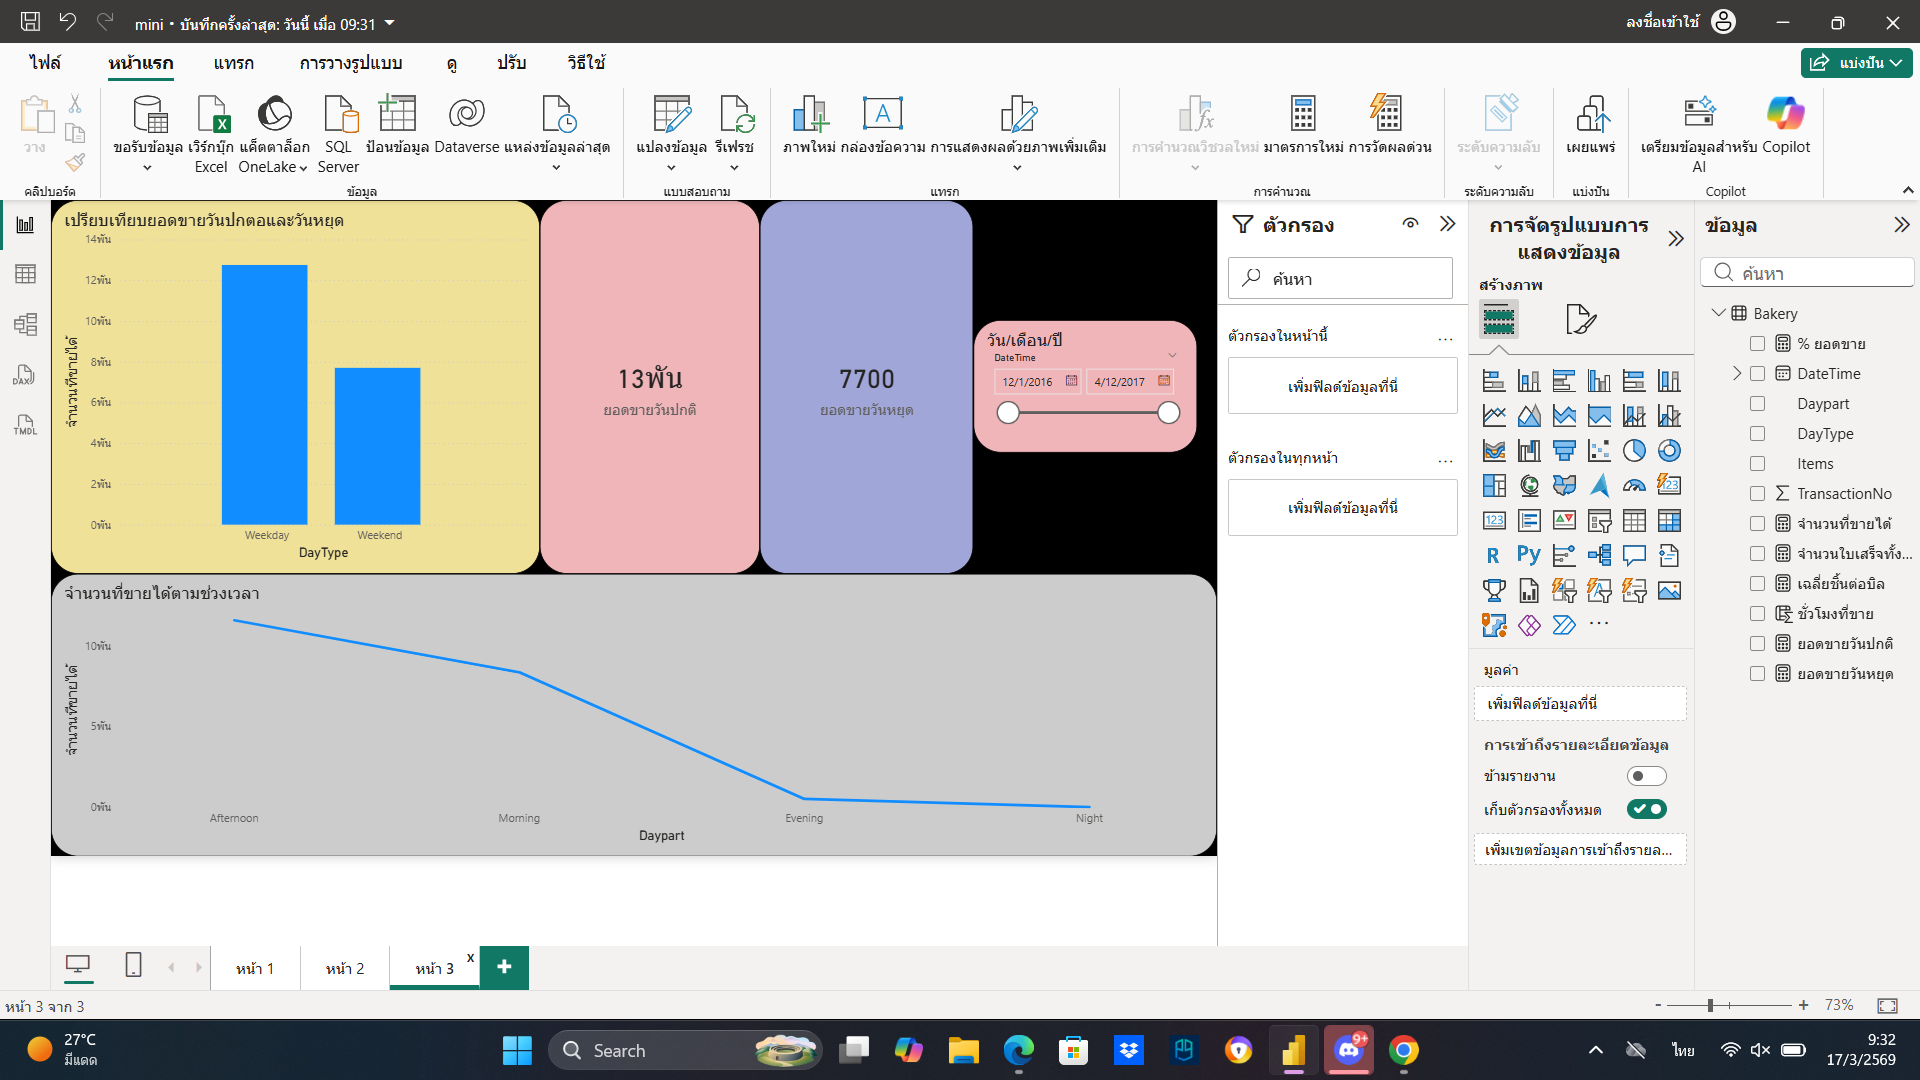

This screenshot's page, from the dashboard's own definition file:
{"tool":"powerbi","page":{"name":"หน้า 3","canvas":[1280,720],"ordinal":2},"visuals":[{"type":"clusteredColumnChart","title":"เปรียบเทียบยอดขายวันปกตอและวันหยุด","fields":{"Y":["Bakery.จำนวนที่ขายได้"],"Category":["Bakery.DayType"]},"box":[0,0,537.1,410],"z":0},{"type":"card","fields":{"Values":["Bakery.ยอดขายวันหยุด"]},"box":[778,0,234.6,410.3],"z":1000},{"type":"lineChart","title":"จำนวนที่ขายได้ตามช่วงเวลา","fields":{"Category":["Bakery.Daypart"],"Y":["Bakery.จำนวนที่ขายได้"]},"box":[0,410,1280,310],"z":2000},{"type":"card","fields":{"Values":["Bakery.$$ยอดขายวันปกติ"]},"box":[536.5,0,241.5,410.3],"z":3000},{"type":"slicer","title":"วัน/เดือน/ปี","fields":{"Values":["Bakery.DateTime"]},"box":[1012.7,131.7,245.6,145.5],"z":3001}]}

Visuals, with their boxes on the page's 1280x720 design canvas (x1, y1, x2, y2). These are canvas units, not pixel positions in the 1920x1080 screenshot, which may show the page scaled, cropped or inside an application window:
"เปรียบเทียบยอดขายวันปกตอและวันหยุด" clusteredColumnChart: Rect(0, 0, 537, 410)
card - Bakery.ยอดขายวันหยุด: Rect(778, 0, 1013, 410)
"จำนวนที่ขายได้ตามช่วงเวลา" lineChart: Rect(0, 410, 1280, 720)
card - Bakery.$$ยอดขายวันปกติ: Rect(536, 0, 778, 410)
"วัน/เดือน/ปี" slicer: Rect(1013, 132, 1258, 277)
